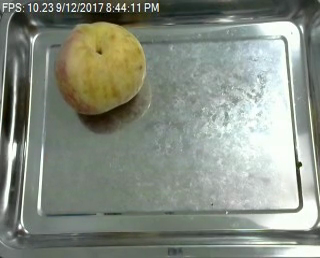Peach: (56, 21, 146, 115)
